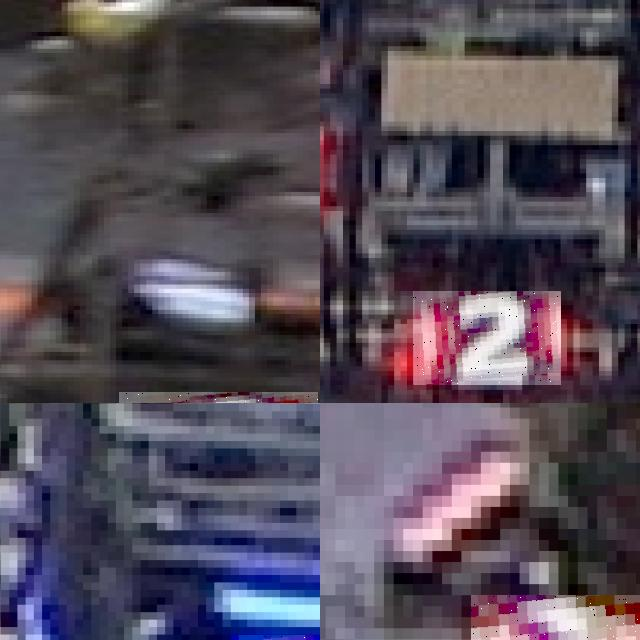R2: (413, 291, 561, 385)
R3: (471, 595, 640, 640)
